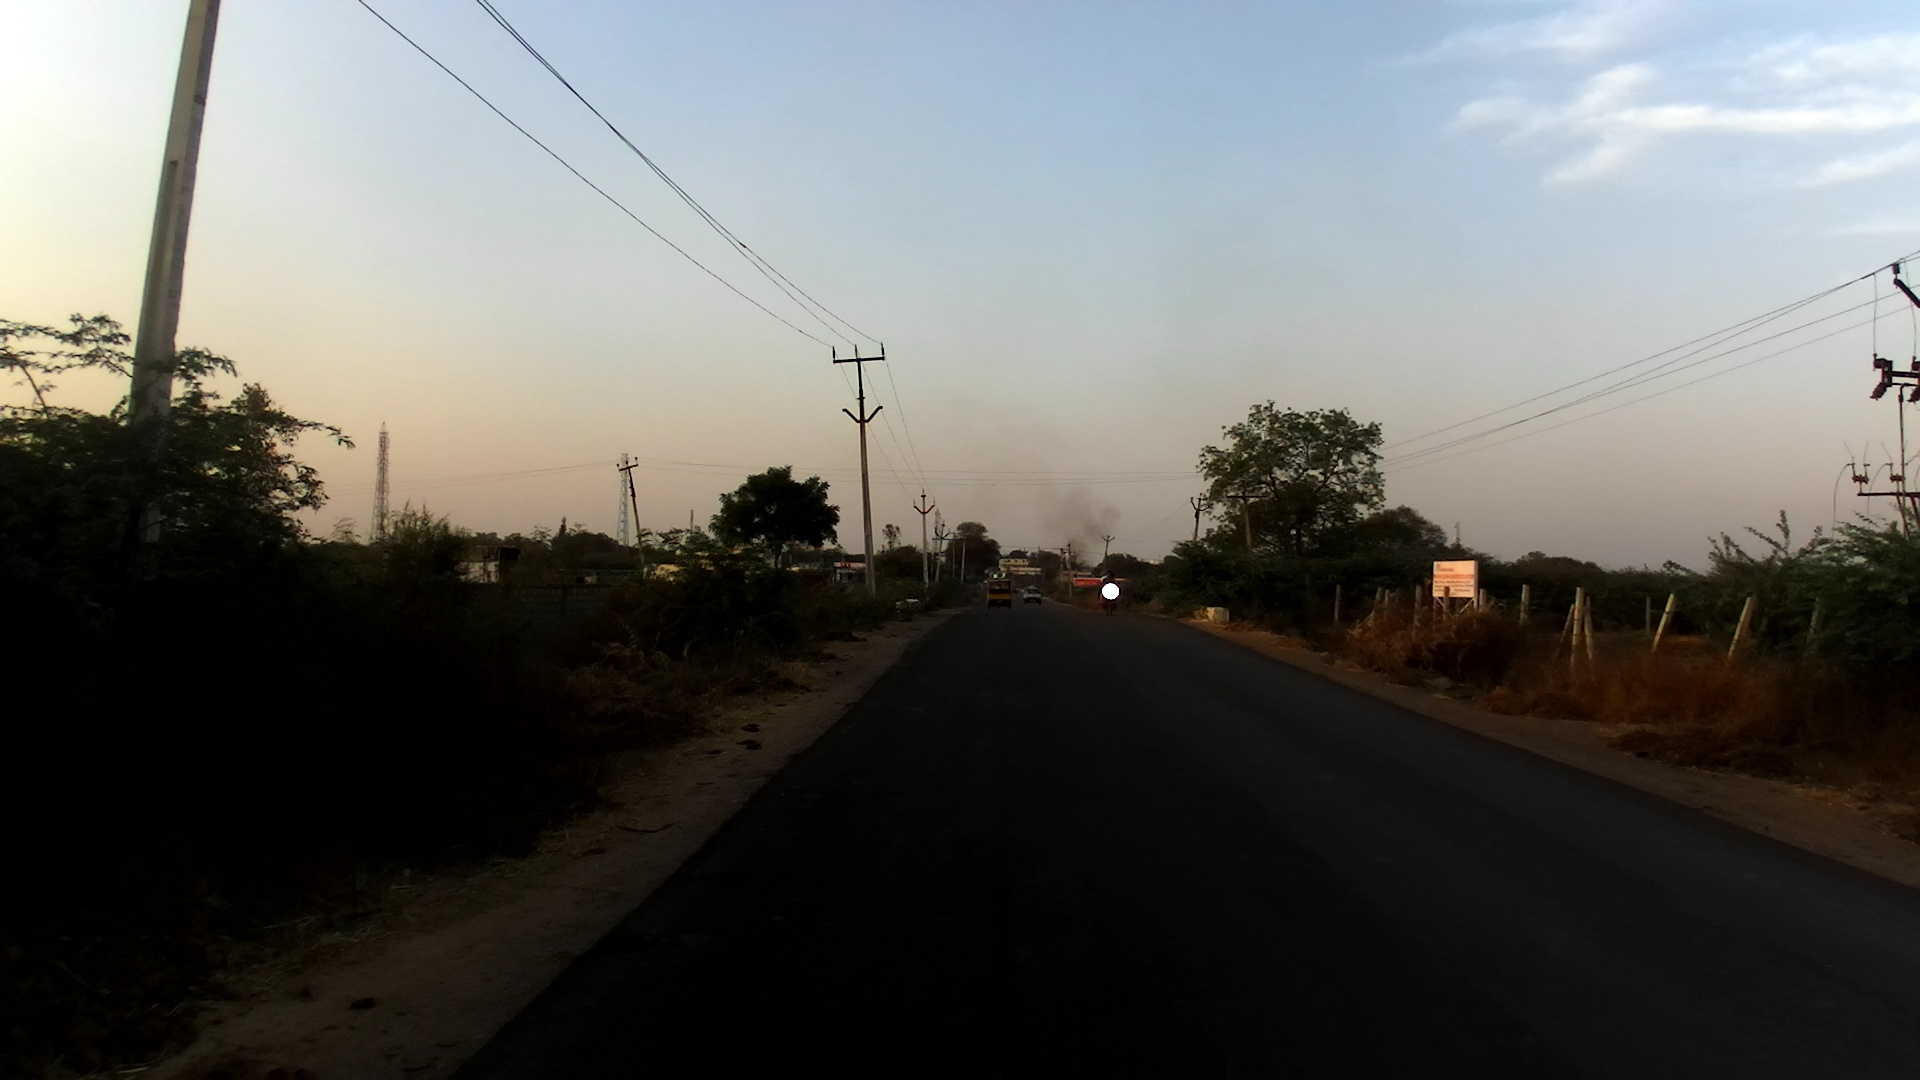autorickshaw: (984, 571, 1015, 611)
car: (1022, 585, 1044, 604)
motorcycle: (1100, 583, 1118, 616)
rider: (1101, 571, 1120, 609), (1101, 569, 1116, 589)
